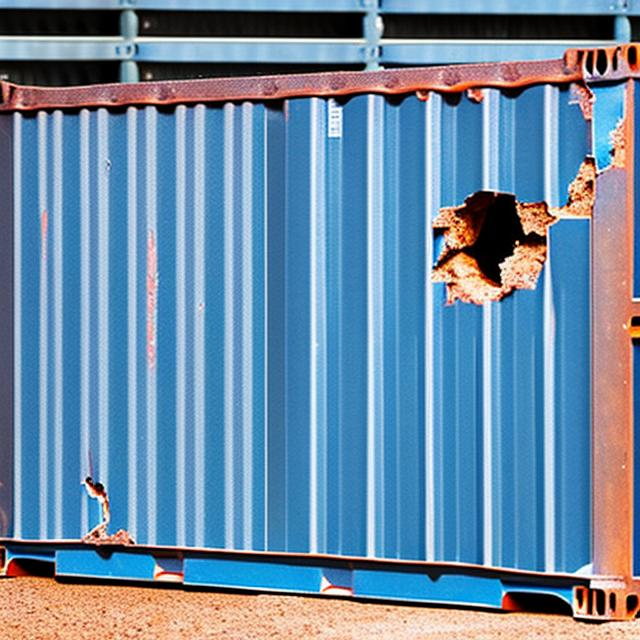hole: (424, 158, 562, 319), (74, 470, 135, 549)
